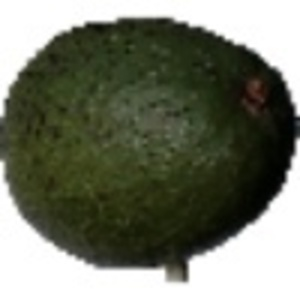abacate: (2, 8, 297, 268)
